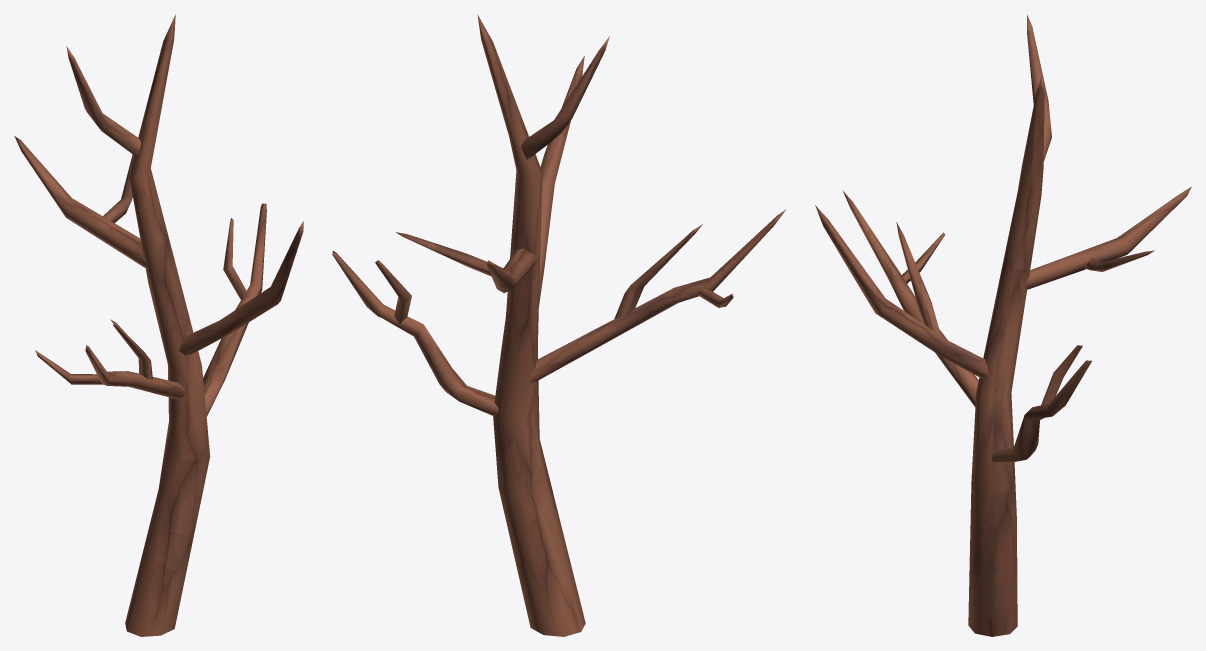
File: DeadTree_5.glb
3 views of the same model, side by side, from view 1: azimuth 30°, elevation 25°; view 2: azimuth 150°, elevation 25°; view 3: azimuth 270°, elevation 25° (orthographic). The views are drawn at different scales.
Bounding box in the file's own units: 1.42 × 2.6 × 1.53.
Materials: 1 (1 with a texture image).
